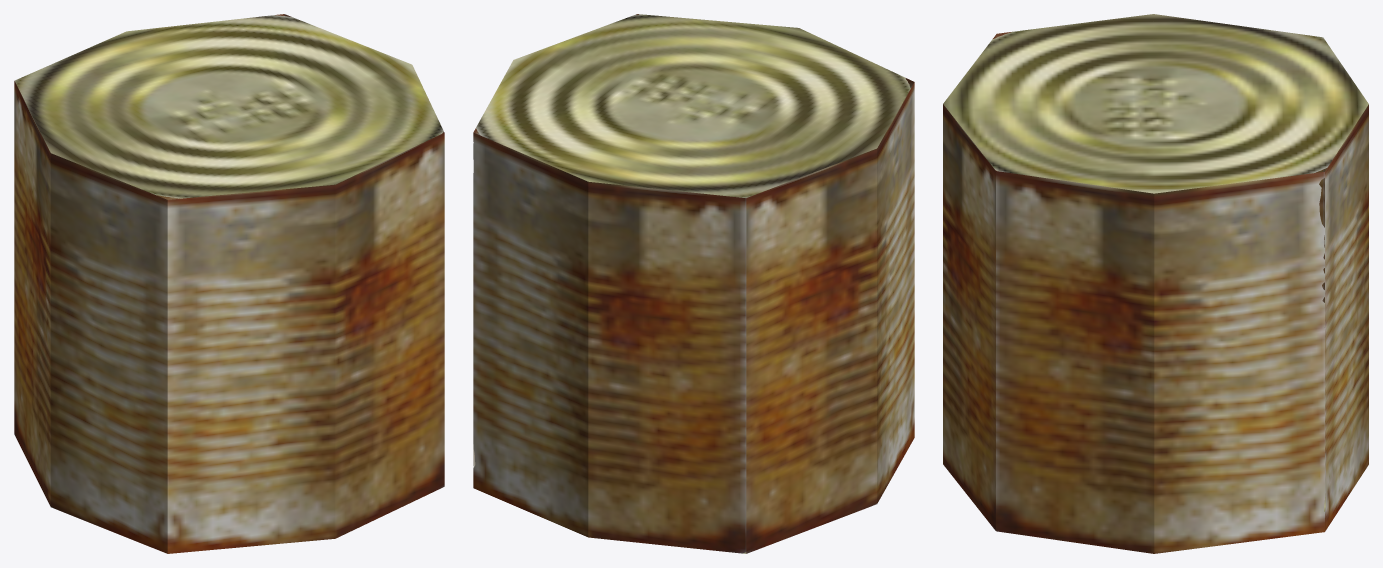
The model's file is Konserva.fbx.
The picture shows the model from 3 angles, left to right: view 1: azimuth 30°, elevation 25°; view 2: azimuth 150°, elevation 25°; view 3: azimuth 270°, elevation 25°; orthographic projection.
Visible parts, largest first — view 1: Cube; view 2: Cube; view 3: Cube.
Boxes of the visible parts, bbox=[...] form: Cube: bbox=[14, 14, 444, 553]; Cube: bbox=[473, 14, 914, 553]; Cube: bbox=[943, 14, 1368, 553].
Size of the model in its own units: 214 by 200 by 214.
1 material, 1 textured.
